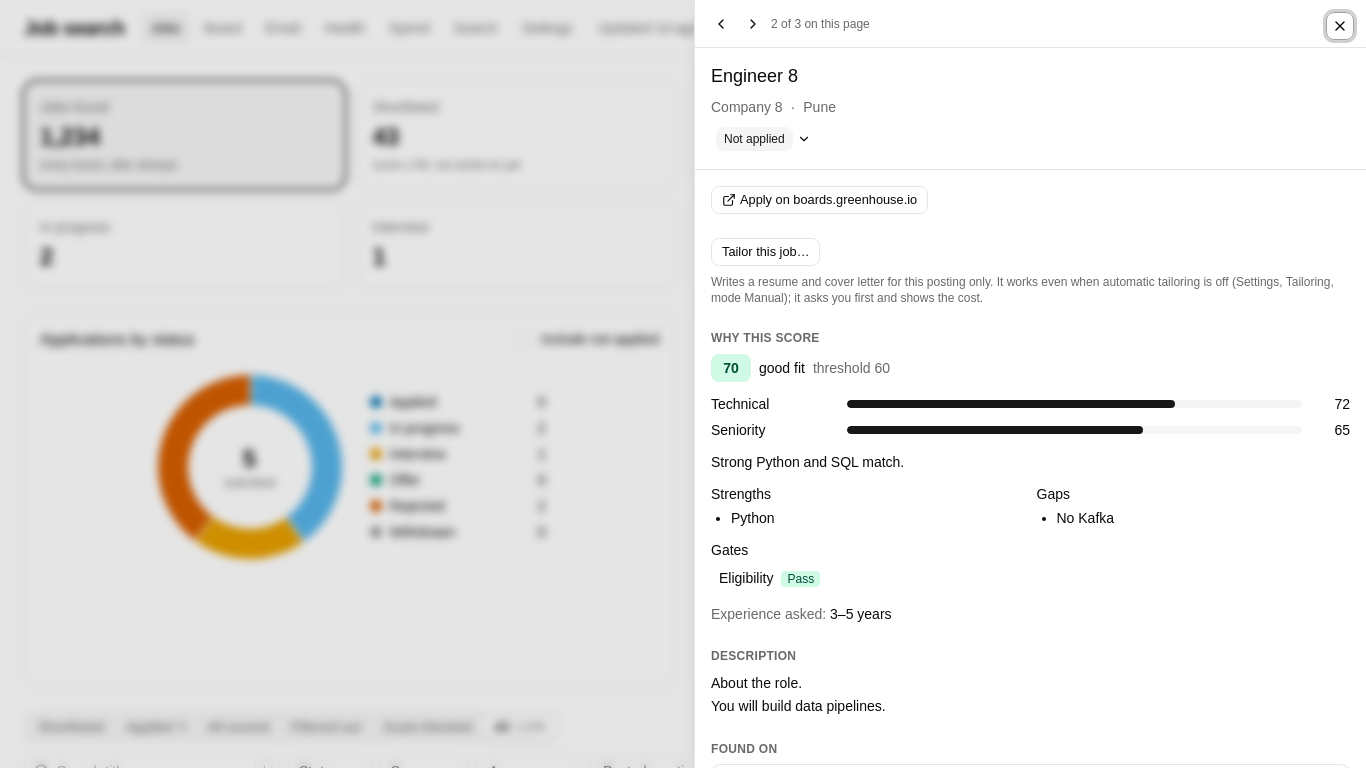
Test: JobDrawer: opening and closing › moves through the jobs on the current page
Expected: the text "2 of 3 on this page" is shown, [771,16,870,32]
Click the button named "Next job". click: (753, 24)
box: [739,10,767,38]
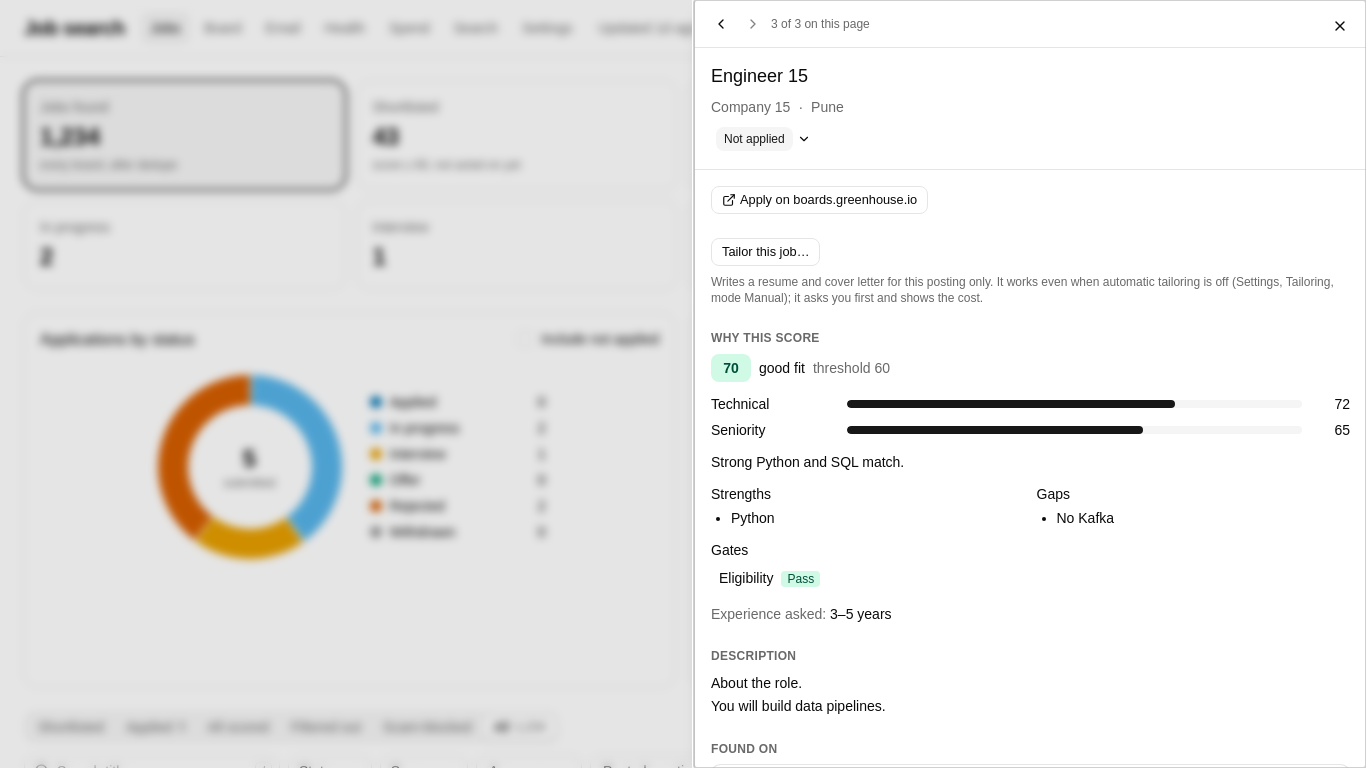
Click the button named "Previous job". click: (721, 24)
box: [707,10,735,38]
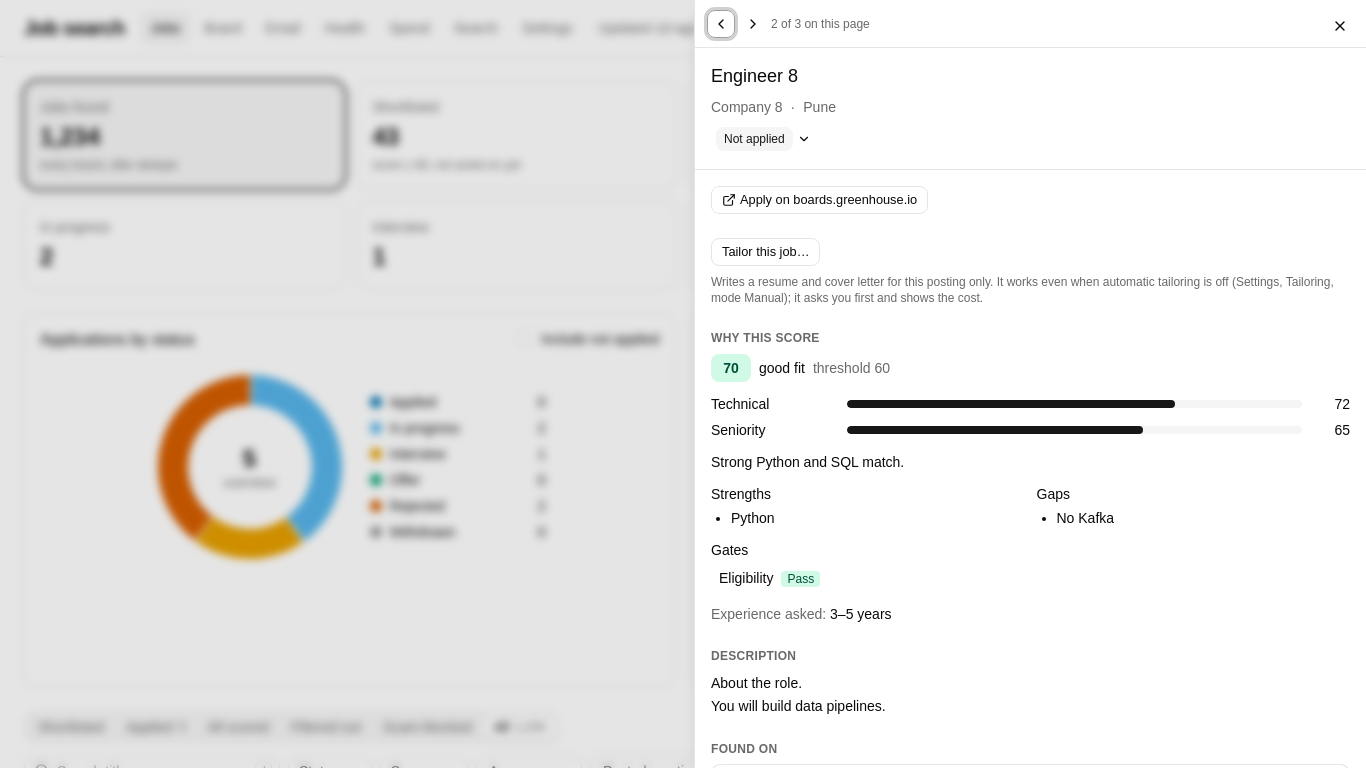
Click the button named "Previous job". click: (721, 24)
box: [707,10,735,38]
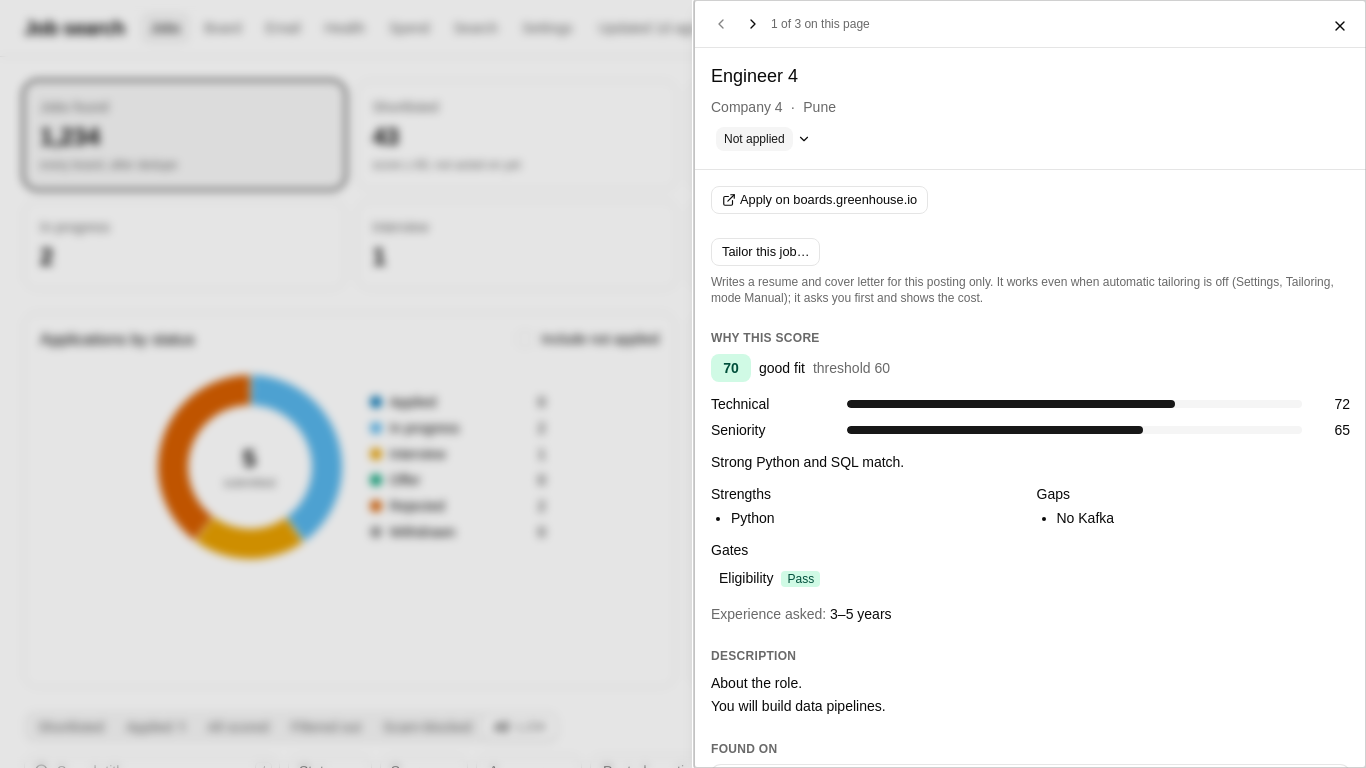
Result: the button named "Previous job" is disabled at [707,10,735,38]
